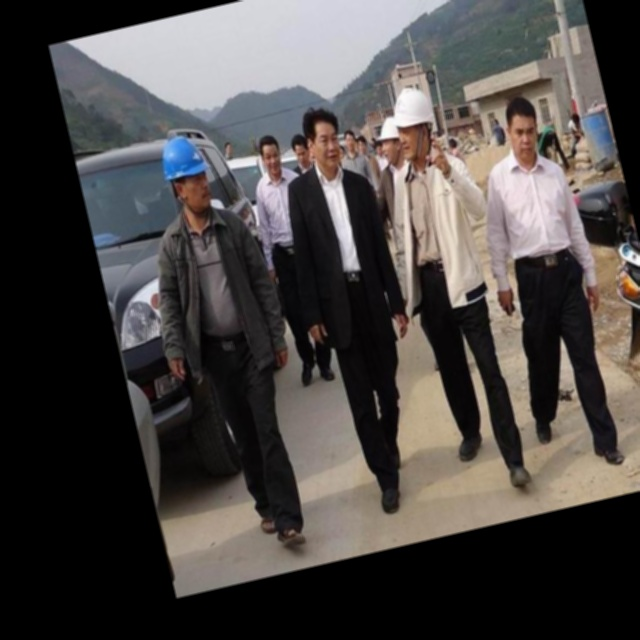Con_Casco: (157, 133, 216, 218), (387, 84, 443, 164)
Sin_Casco_Mascarrilla: (298, 102, 348, 171), (500, 90, 547, 163)
